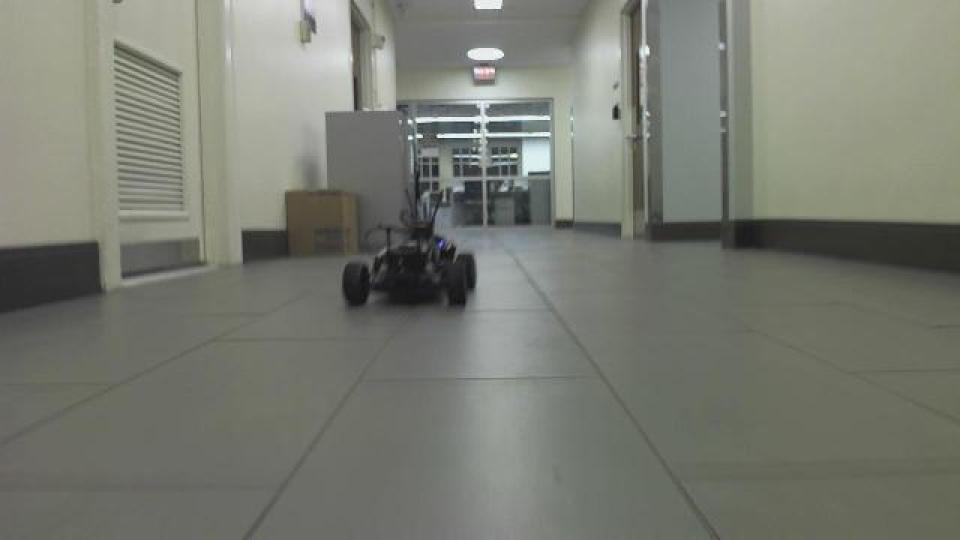car: (338, 220, 480, 310)
